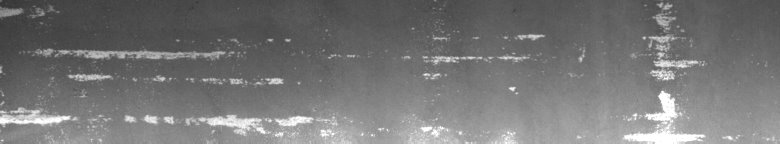kb: (4, 4, 707, 136)
